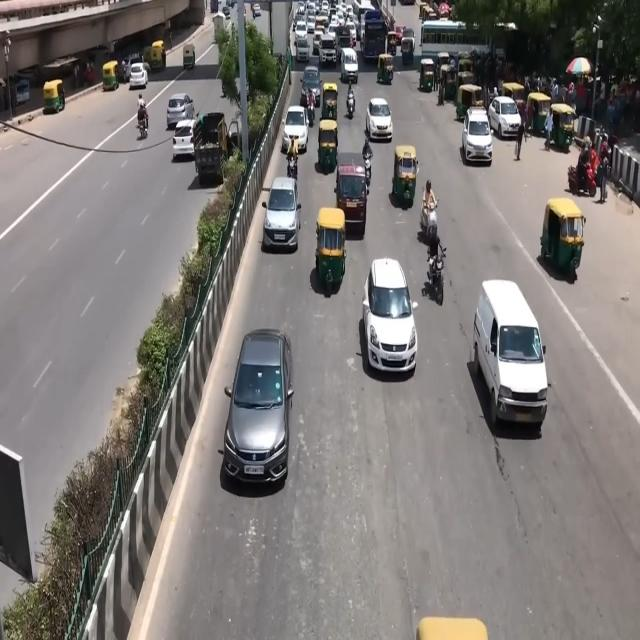auto: (536, 186, 590, 285), (314, 206, 350, 309), (315, 206, 347, 292), (391, 144, 418, 205), (317, 115, 342, 178), (550, 103, 576, 153), (526, 91, 552, 138), (317, 118, 339, 172), (458, 83, 483, 124), (321, 83, 344, 127), (43, 78, 65, 112), (321, 82, 339, 120), (144, 40, 165, 72), (419, 57, 436, 92), (376, 53, 394, 86), (102, 60, 120, 92), (443, 65, 458, 102), (400, 28, 416, 60), (457, 53, 474, 80), (436, 51, 451, 80), (182, 43, 195, 70)
bike-auto: (421, 216, 452, 314), (568, 157, 596, 198), (422, 182, 438, 239), (362, 144, 373, 188), (138, 94, 148, 138), (304, 94, 316, 128), (346, 84, 356, 118), (287, 153, 298, 181)
